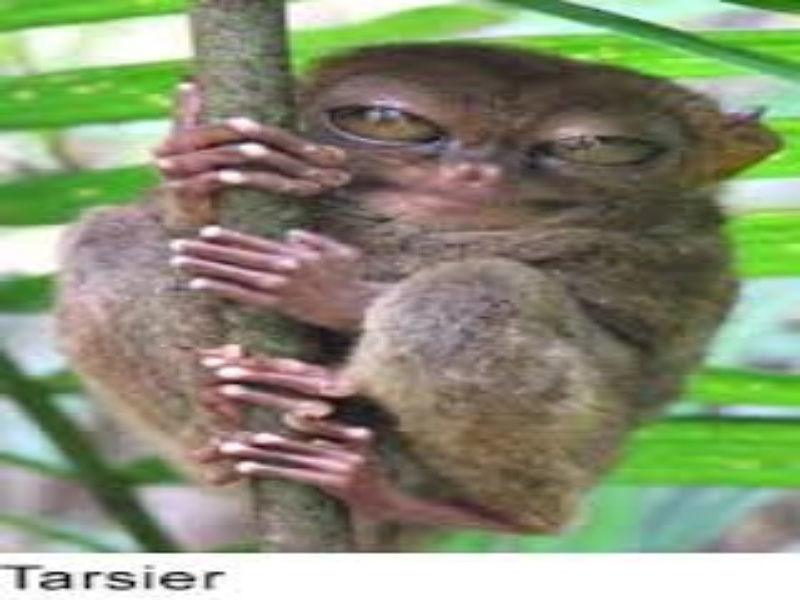monkey: (140, 32, 679, 392)
